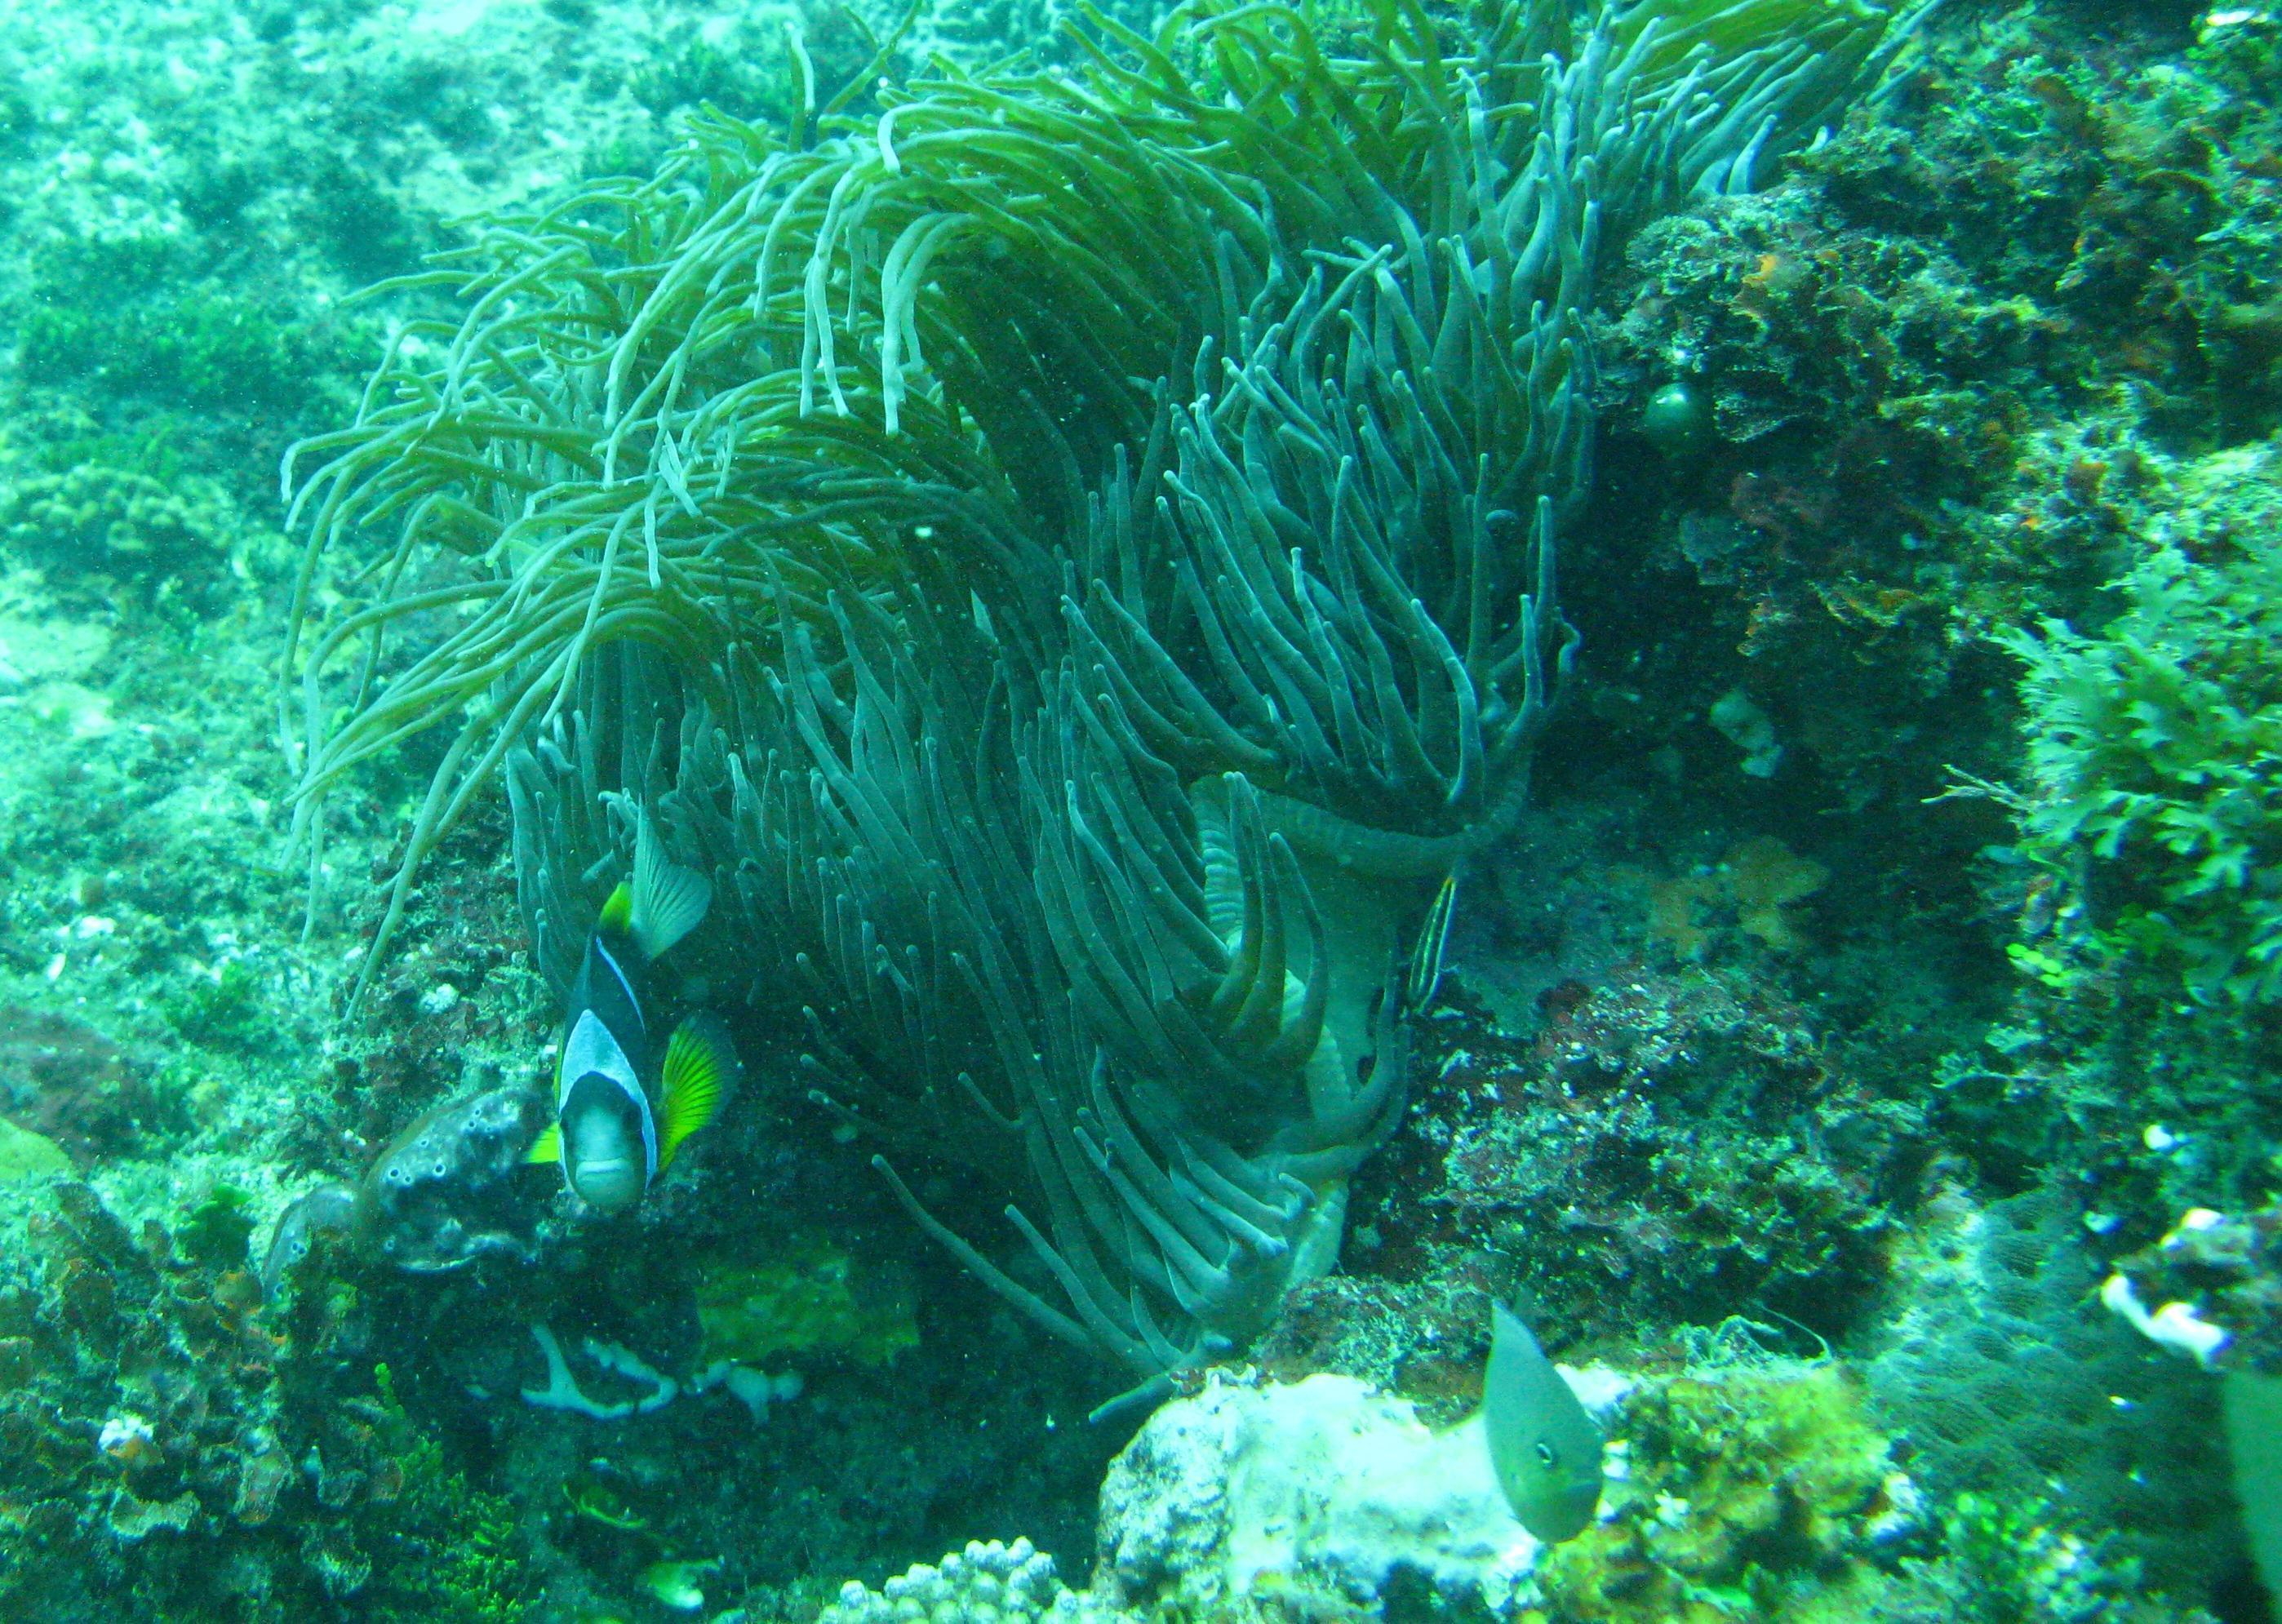Fish: (519, 821, 752, 1230)
